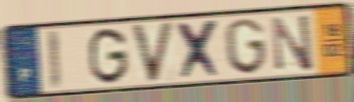G: (223, 16, 270, 77), (88, 25, 131, 87)
I: (45, 28, 64, 92)
N: (269, 12, 315, 73)
V: (128, 19, 177, 85)
X: (175, 17, 225, 82)
